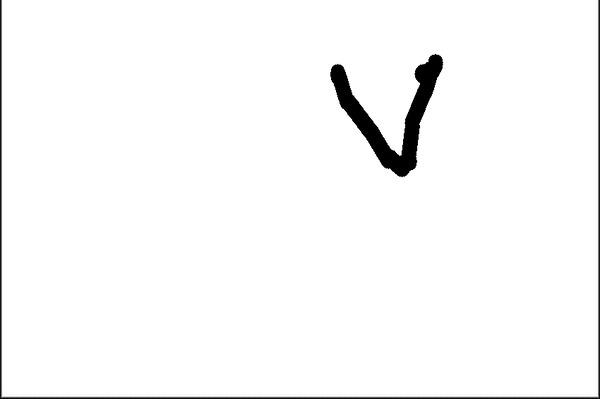V: (330, 40, 453, 184)
